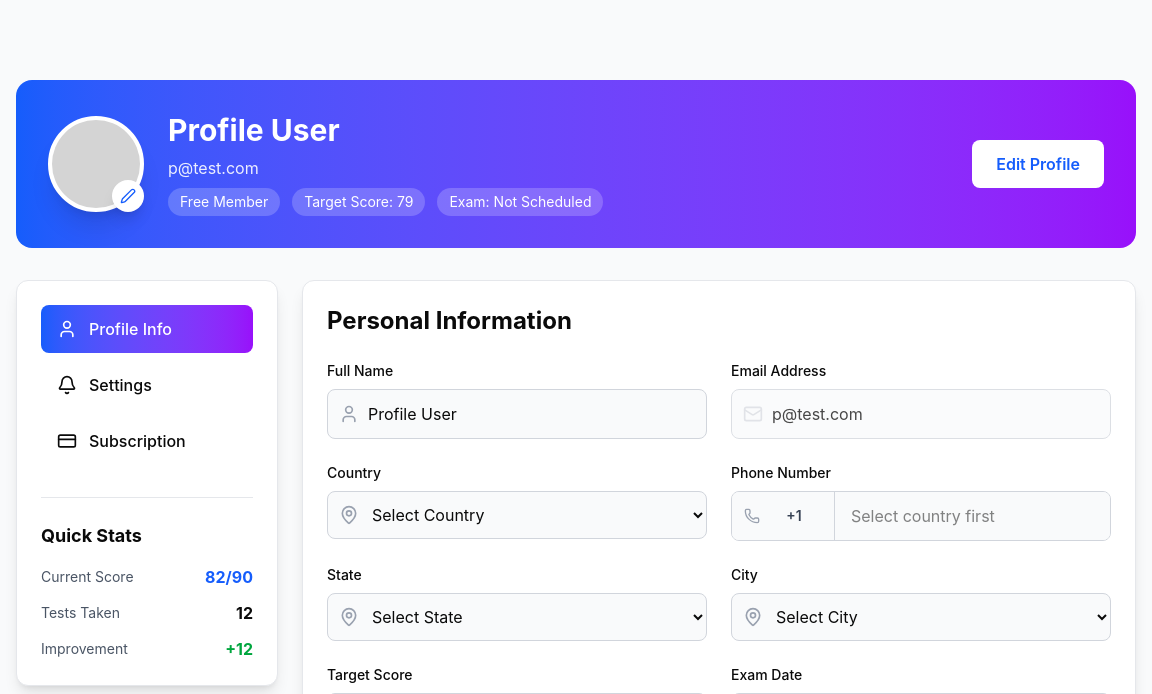
it: ProfilePage › toggles edit mode when Edit Profile is clicked
This screenshot has width=1152, height=694.
Click the button "Edit Profile": point(1038, 164) x1=972 y1=140 x2=1104 y2=188
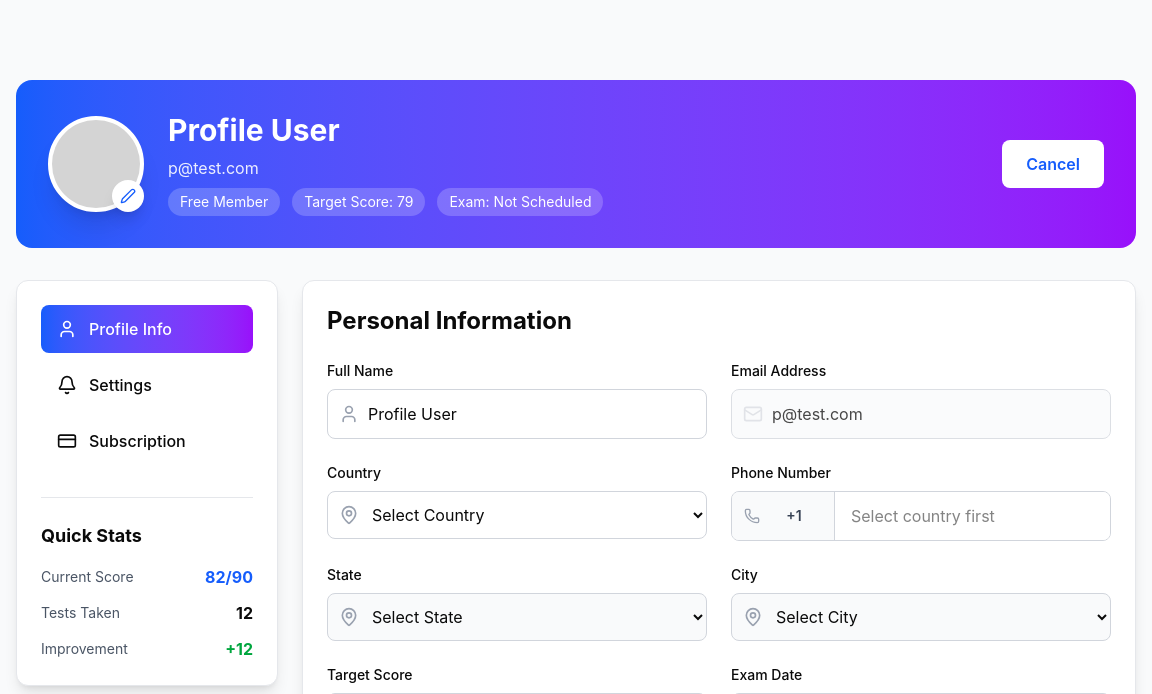
Expected: the button "Cancel" is shown, x1=1002 y1=140 x2=1104 y2=188
